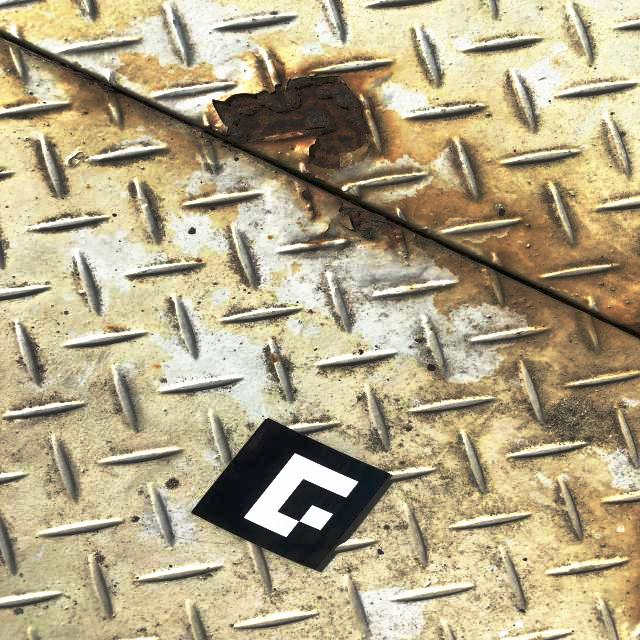Corrosion: (207, 70, 371, 175), (334, 199, 408, 250), (299, 186, 314, 206)
